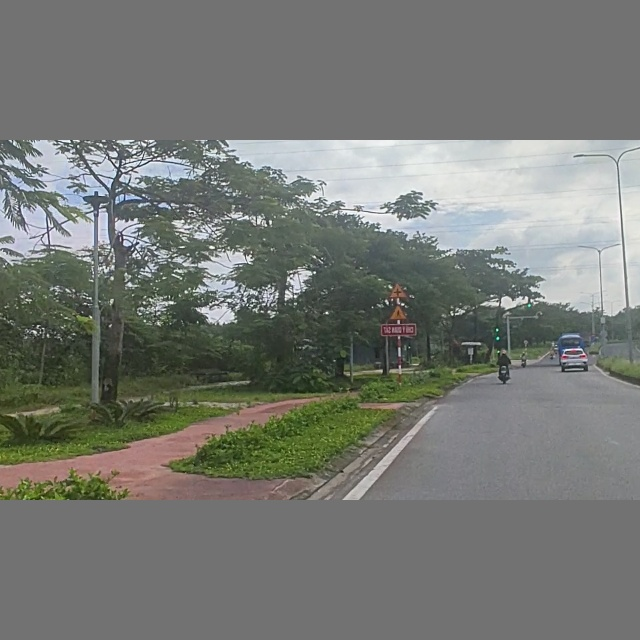W.205a: (388, 283, 407, 298)
W.224: (387, 304, 408, 322)
